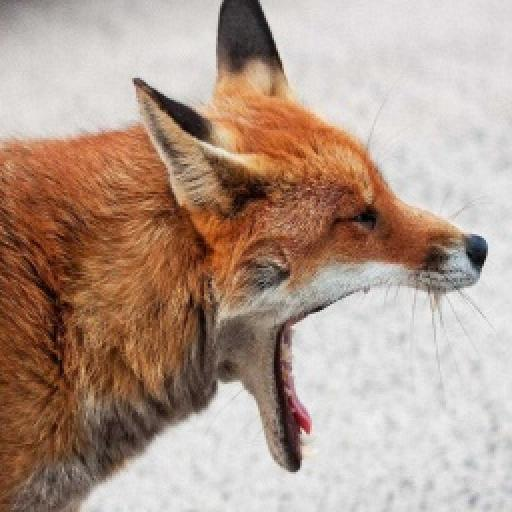zorro: (0, 0, 484, 510)
